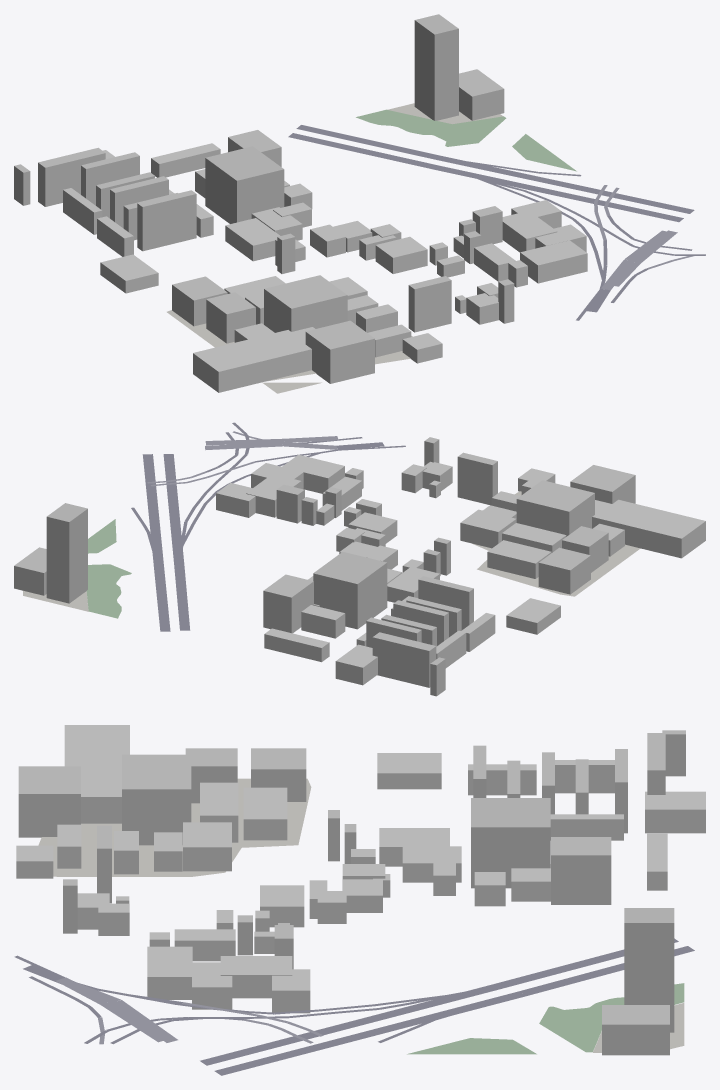
The model's file is 133_90_mid.glb.
3 views of the same model, one above another, from view 1: azimuth 30°, elevation 25°; view 2: azimuth 150°, elevation 25°; view 3: azimuth 270°, elevation 25° (orthographic). The views are drawn at different scales.
Size of the model in its own units: 598 by 95.67 by 526.
